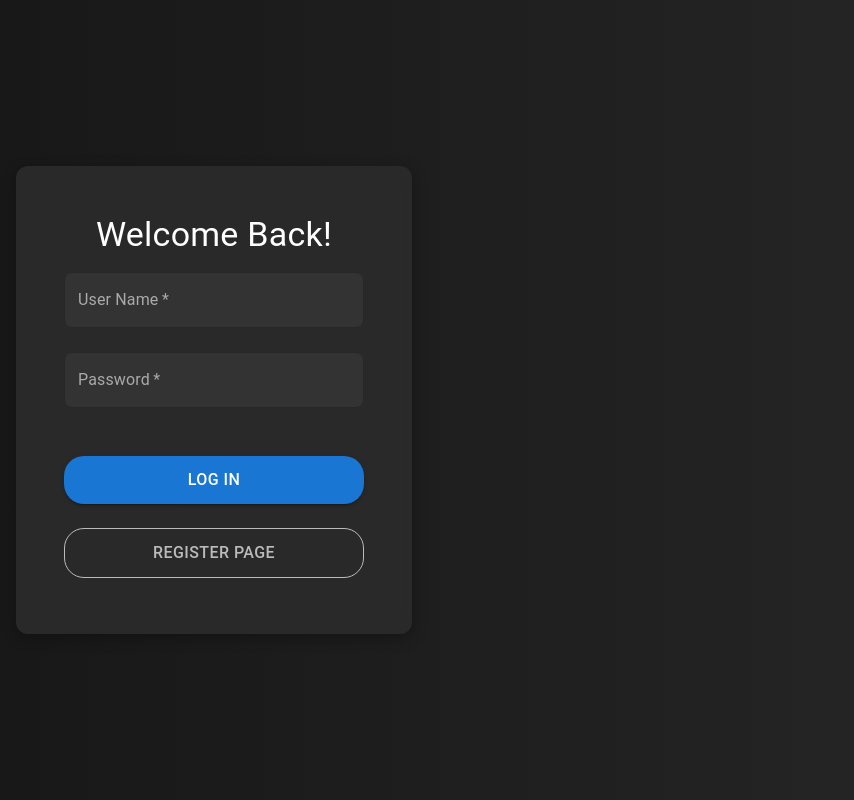
Test: Login Page › should navigate to register page when clicking register button
What coordinates should you click on to do the following:
click the button "Register Page"
I would click on:
 (214, 553)
Its box is [64,528,364,578].
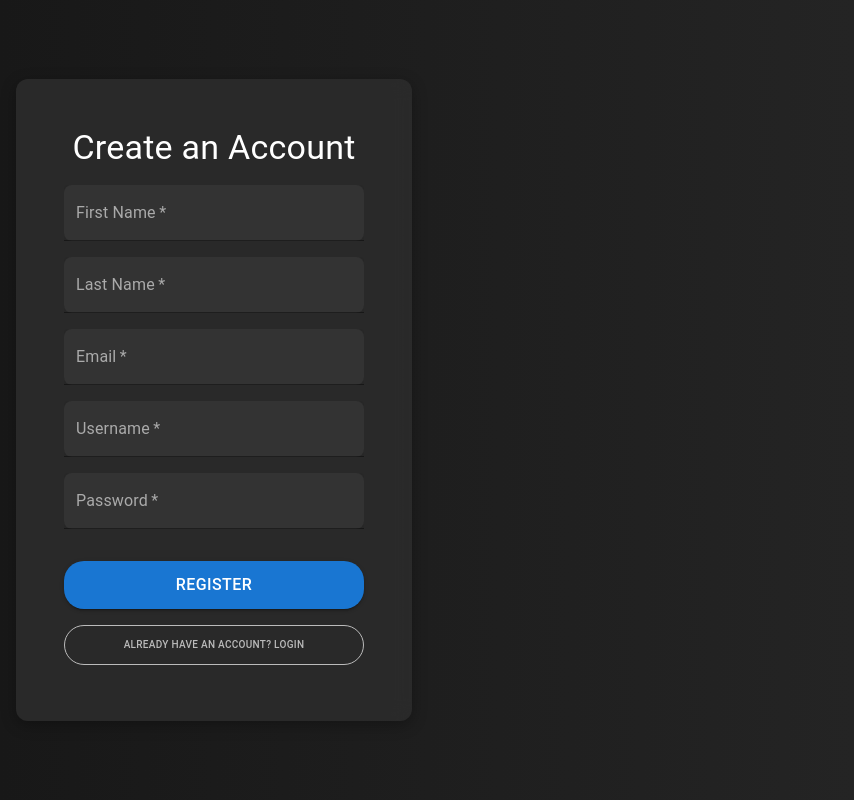
Expected: the heading "Create an Account" is shown, [64,127,364,169]
